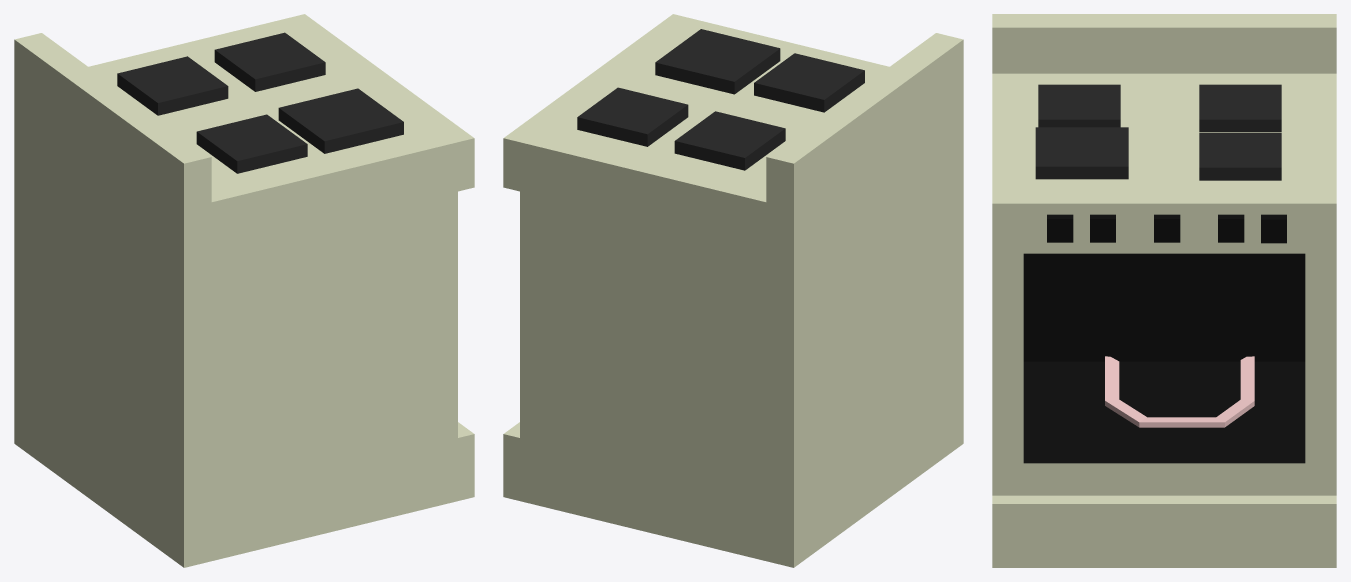
The model's file is Oven.fbx.
3 renders of one model, left to right at view 1: azimuth 30°, elevation 25°; view 2: azimuth 150°, elevation 25°; view 3: azimuth 270°, elevation 25°, orthographic.
Visible parts, largest first — view 1: Oven; view 2: Oven; view 3: Oven.
Part boxes in pixels (left/top/right/bottom): Oven: left=14, top=14, right=474, bottom=567; Oven: left=503, top=14, right=963, bottom=567; Oven: left=992, top=14, right=1336, bottom=567.
Bounding box in the file's own units: 82.36 × 106 × 80.55.
